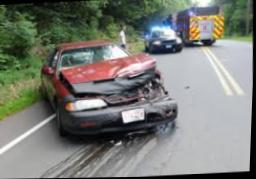Bonnet: (60, 53, 164, 106)
Bumper: (56, 94, 180, 137)
Light: (64, 97, 111, 113)
Windshield: (60, 42, 134, 69)
